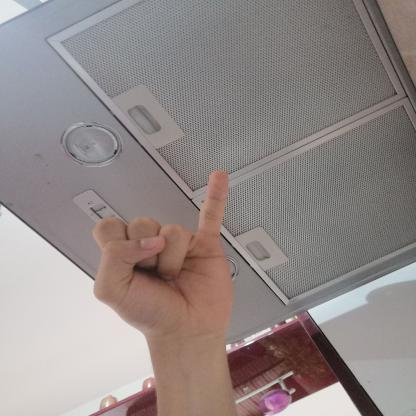MEEM: (70, 160, 252, 348)
